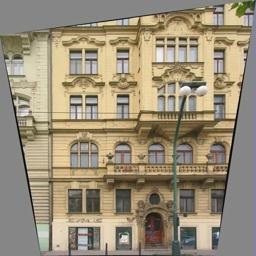building: (49, 2, 256, 256)
